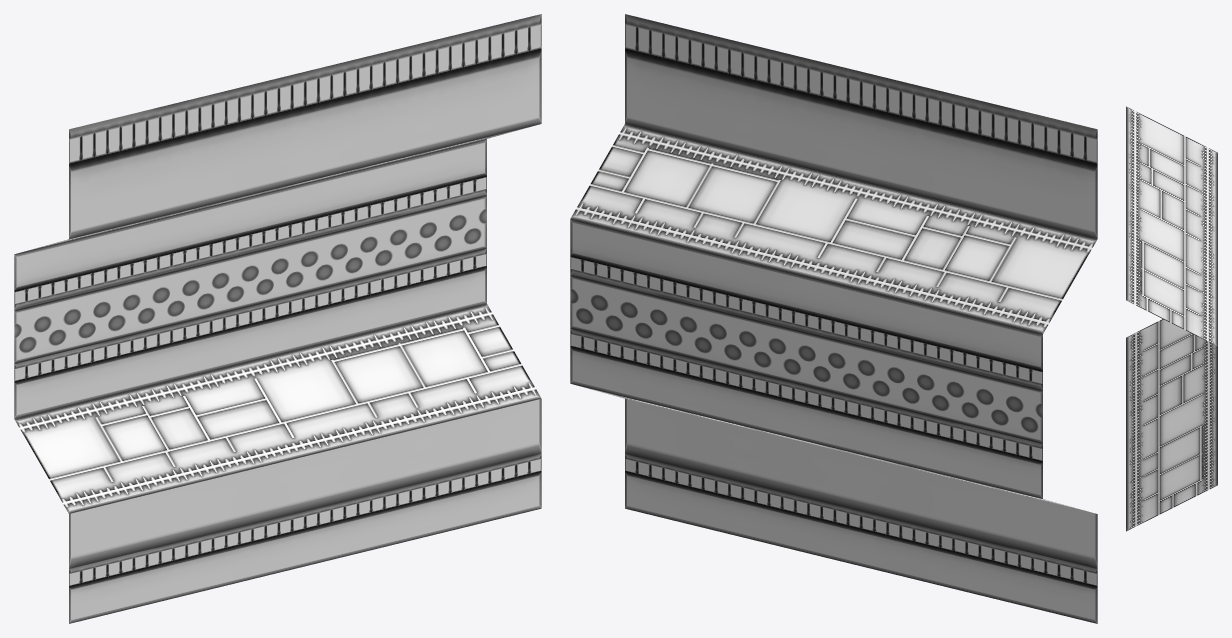
Rendered from wallV2.fbx.
The picture shows the model from 3 angles, left to right: view 1: azimuth 30°, elevation 25°; view 2: azimuth 150°, elevation 25°; view 3: azimuth 270°, elevation 25°; orthographic projection. The views are drawn at different scales.
Parts seen in each view (by area): view 1: WallV2; view 2: WallV2; view 3: WallV2.
Boxes of the visible parts, x1,y1,x2,y2 form: WallV2: (14,14,541,623); WallV2: (570,14,1097,623); WallV2: (1126,106,1217,531).
Bounding box in the file's own units: 500 × 500 × 100.
1 material, 1 textured.
